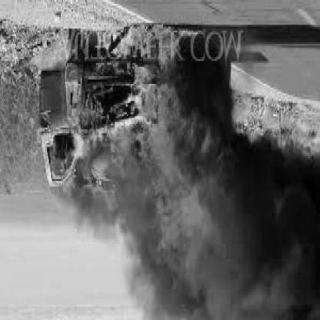Fire: (44, 28, 246, 320)
Smoke: (217, 137, 317, 320)
